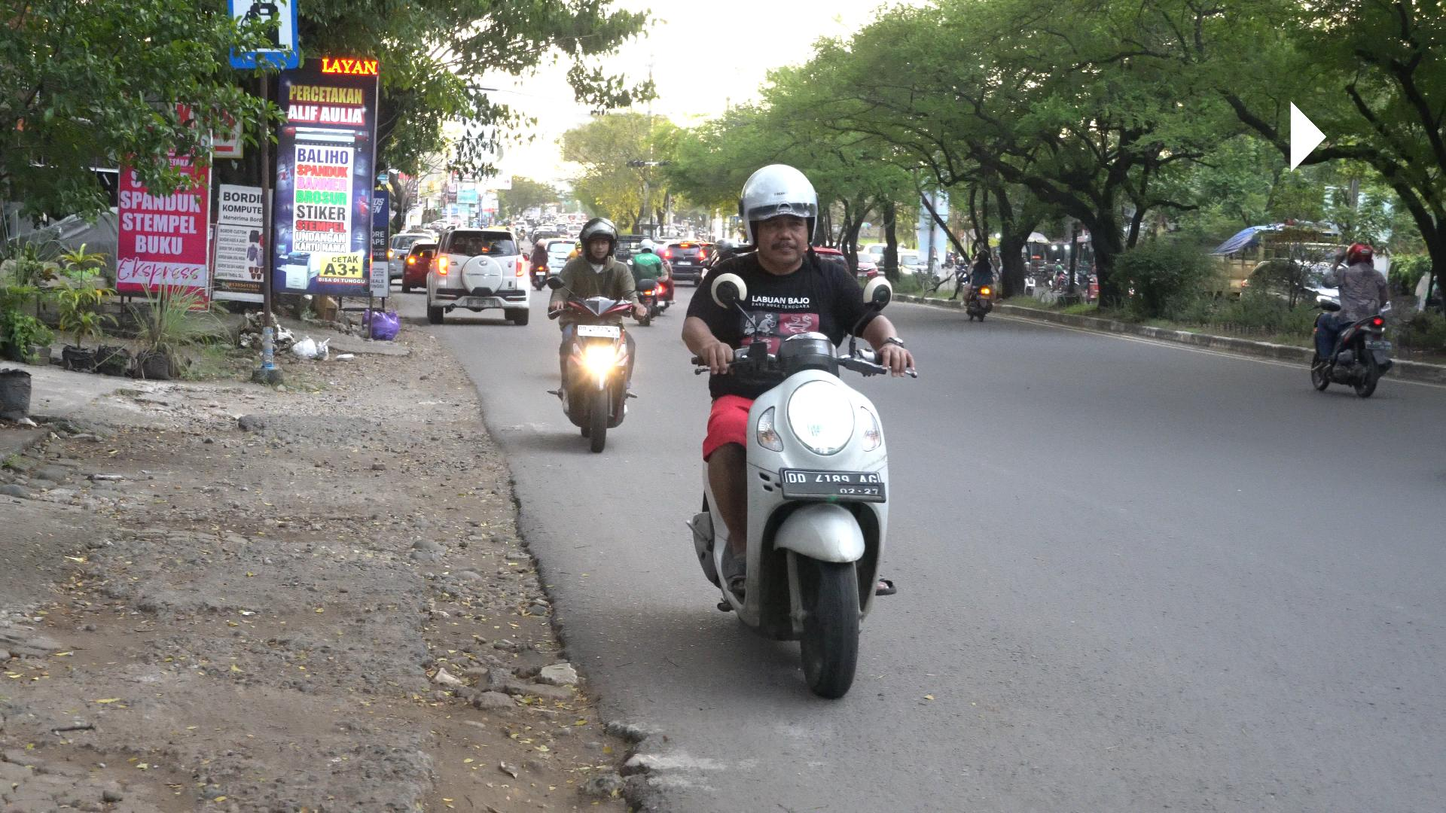number-plate: (783, 460, 887, 504)
